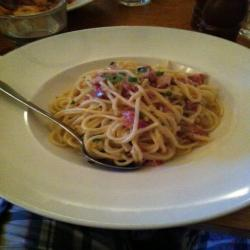carbonara: (47, 50, 232, 178)
